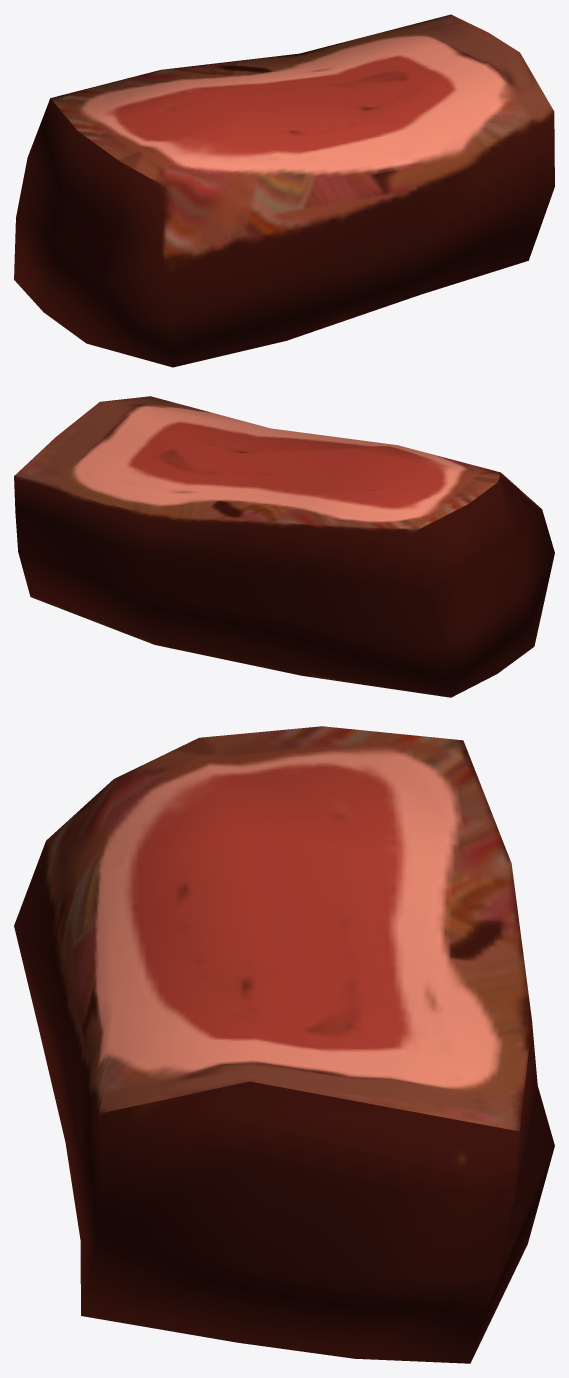
File: SM_Chicken.fbx
3 views of the same model, one above another, from view 1: azimuth 30°, elevation 25°; view 2: azimuth 150°, elevation 25°; view 3: azimuth 270°, elevation 25° (orthographic). The views are drawn at different scales.
Parts seen in each view (by area): view 1: SM_Chicken; view 2: SM_Chicken; view 3: SM_Chicken.
Boxes of the visible parts, x1,y1,x2,y2 form: SM_Chicken: [14, 14, 554, 367]; SM_Chicken: [14, 396, 554, 697]; SM_Chicken: [14, 726, 554, 1363].
Bounding box in the file's own units: 0.523 × 0.229 × 0.3143.
